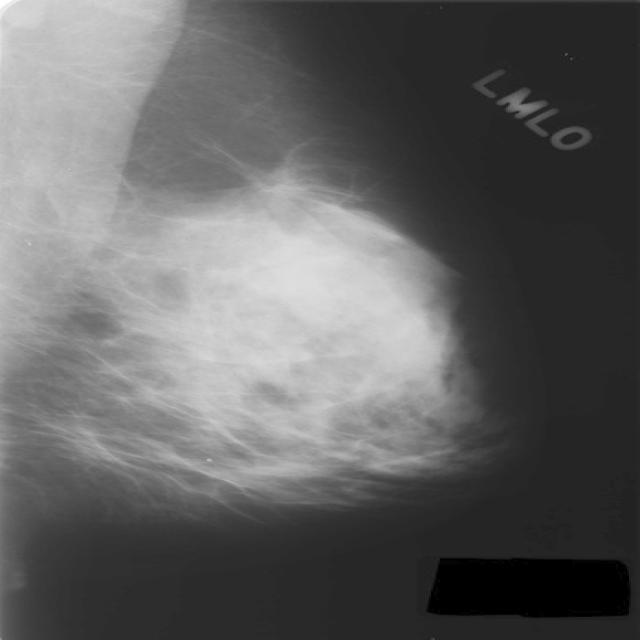tumour: (235, 161, 330, 205)
